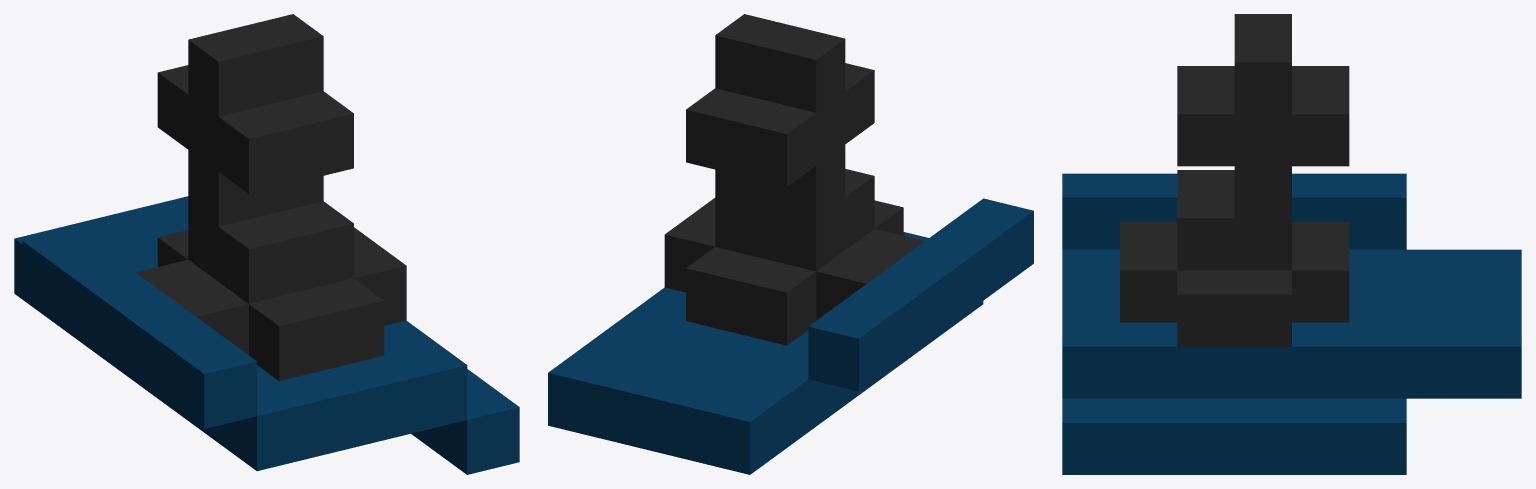
The model's file is Extra-7-UVintruder_LandingPod_.obj.
3 renders of one model, left to right at view 1: azimuth 30°, elevation 25°; view 2: azimuth 150°, elevation 25°; view 3: azimuth 270°, elevation 25°, orthographic. The views are drawn at different scales.
Visible parts, largest first — view 1: UVintruder_LandingPod_; view 2: UVintruder_LandingPod_; view 3: UVintruder_LandingPod_.
Part boxes in pixels (x1,y1,x2,y2): UVintruder_LandingPod_: (14, 14, 519, 474); UVintruder_LandingPod_: (548, 14, 1033, 474); UVintruder_LandingPod_: (1062, 14, 1521, 474).
Size of the model in its own units: 0.6 by 0.7 by 0.8.
Materials: 1 (1 with a texture image).
